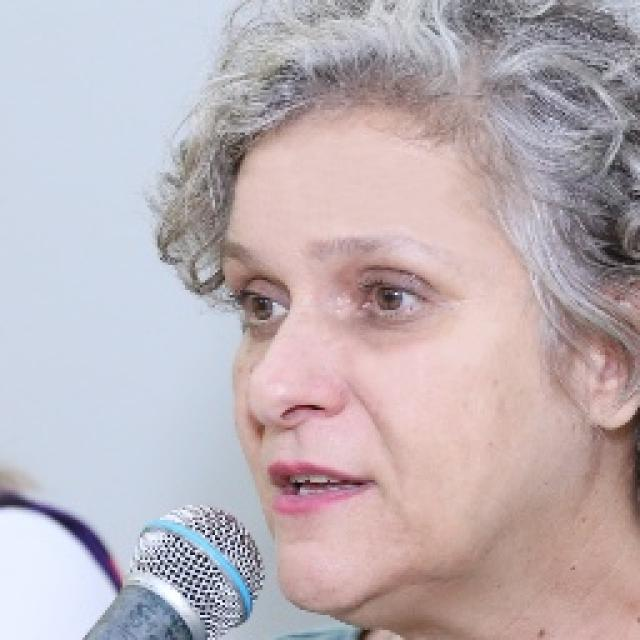earlobe: (588, 375, 636, 431)
eye: (354, 281, 430, 318), (240, 286, 288, 326)
nose: (242, 400, 348, 475)
